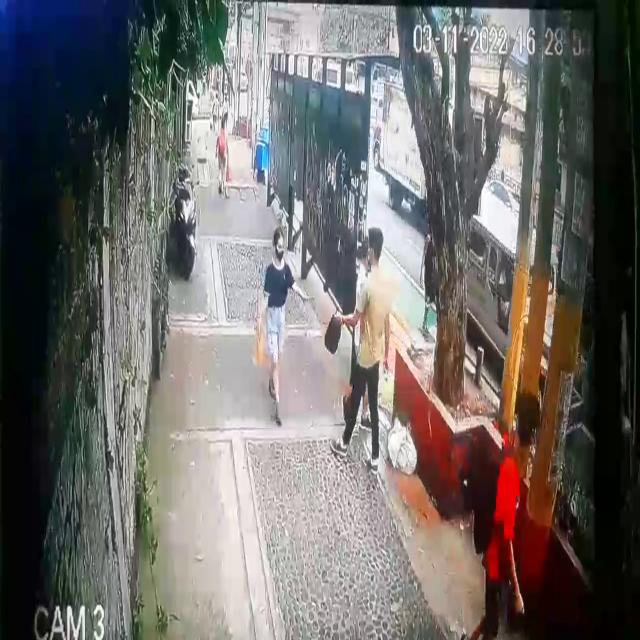garbage_dumping: (324, 303, 342, 357), (256, 310, 268, 378)
